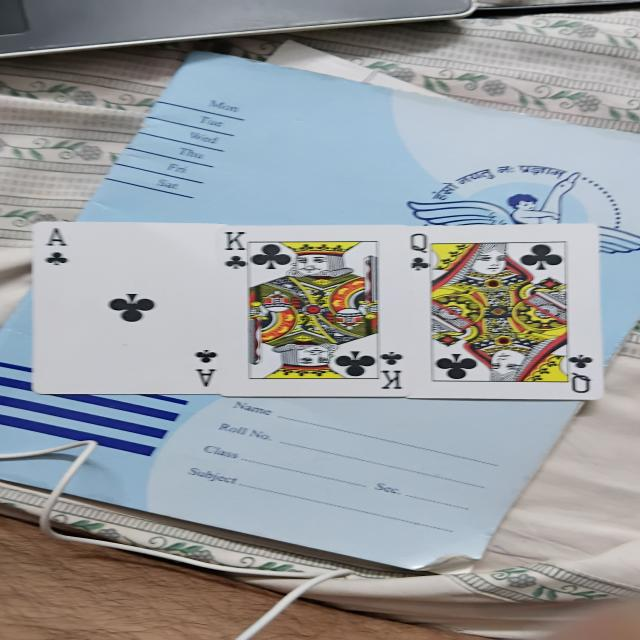AC: (32, 223, 220, 394)
KC: (222, 224, 410, 398)
QC: (411, 224, 603, 400)
